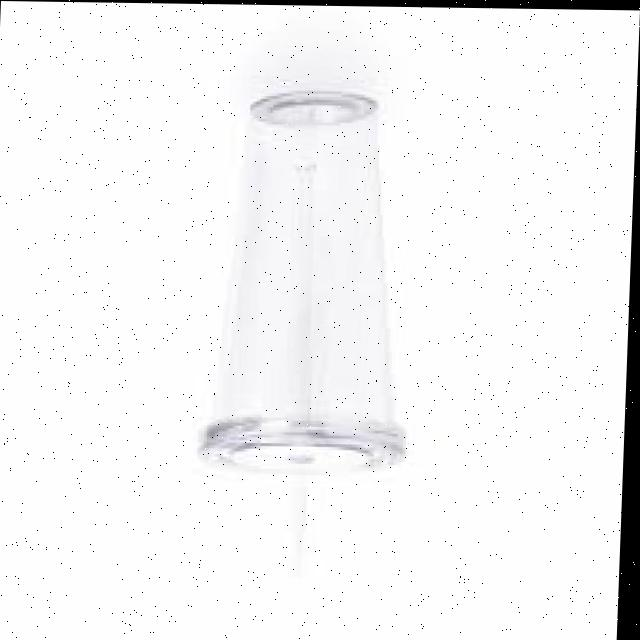cup: (176, 66, 454, 494)
